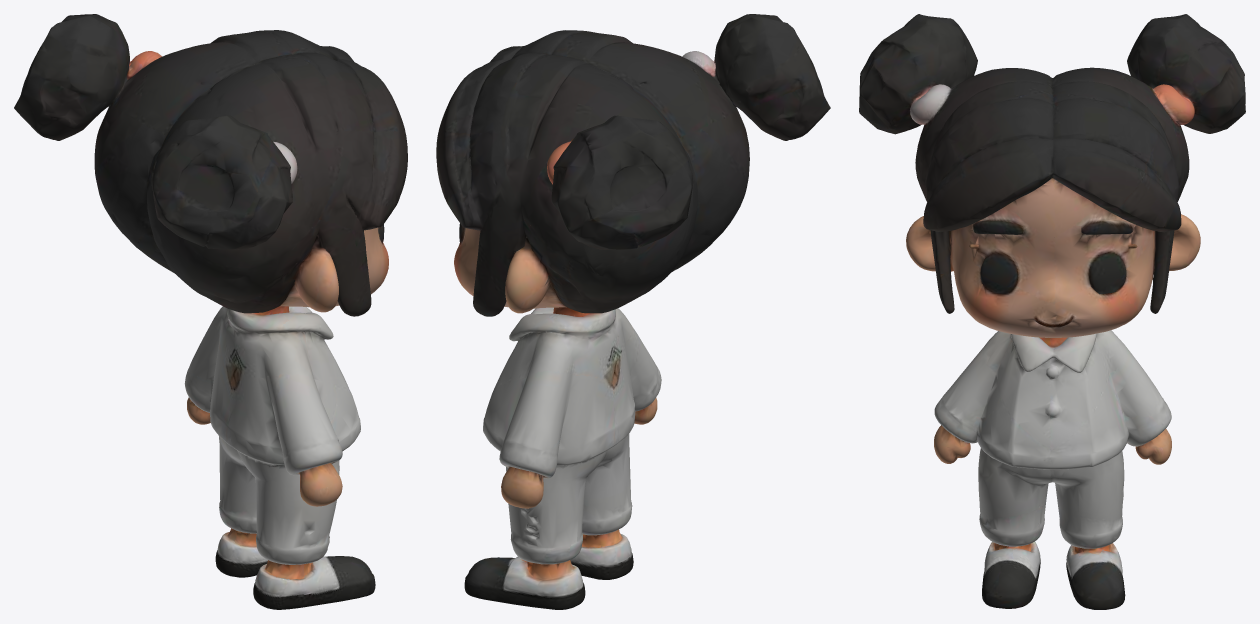
The model's file is hair_f4-web.glb.
3 views of the same model, side by side, from view 1: azimuth 30°, elevation 25°; view 2: azimuth 150°, elevation 25°; view 3: azimuth 270°, elevation 25° (orthographic). The views are drawn at different scales.
Visible parts, largest first — view 1: tripo_node_cca96042-3003-4431-b46f-9c8642febd76; view 2: tripo_node_cca96042-3003-4431-b46f-9c8642febd76; view 3: tripo_node_cca96042-3003-4431-b46f-9c8642febd76.
Part boxes in pixels (x1,y1,x2,y2): tripo_node_cca96042-3003-4431-b46f-9c8642febd76: (14,14,407,609); tripo_node_cca96042-3003-4431-b46f-9c8642febd76: (436,14,830,609); tripo_node_cca96042-3003-4431-b46f-9c8642febd76: (859,14,1245,609).
Size of the model in its own units: 0.5504 by 1 by 0.6962.
Materials: 1 (1 with a texture image).
